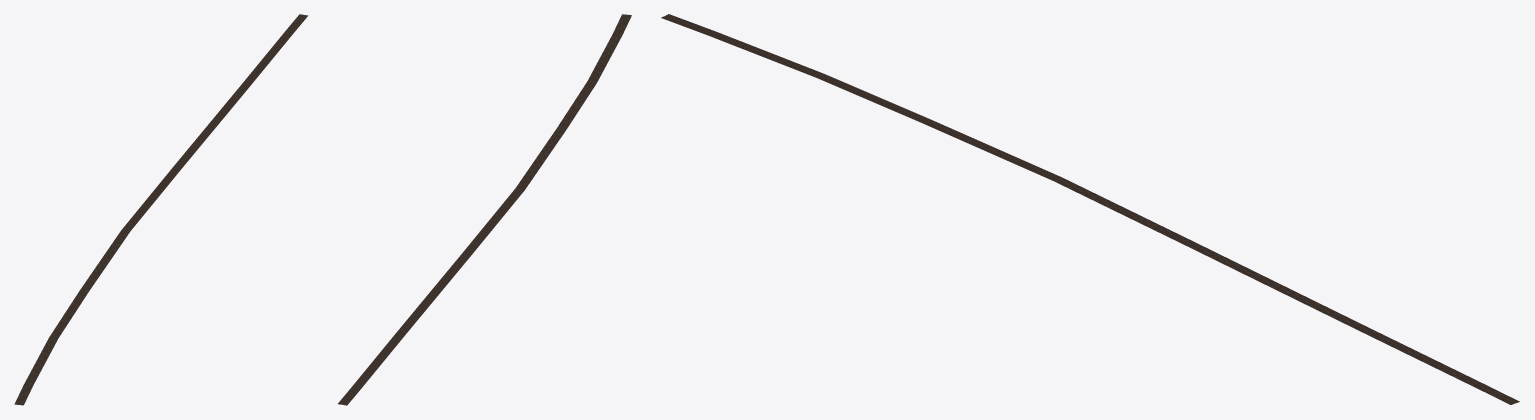
File: kobe_0042.glb
3 views of the same model, side by side, from view 1: azimuth 30°, elevation 25°; view 2: azimuth 210°, elevation 25°; view 3: azimuth 270°, elevation 25° (orthographic). The views are drawn at different scales.
Visible parts, largest first — view 1: ballast_top, oxidised_rail_profiles; view 2: ballast_top, oxidised_rail_profiles, ballast_left; view 3: ballast_top, oxidised_rail_profiles.
Part boxes in pixels (x1=…): ballast_top: x1=14, y1=14, x2=307, y2=405; oxidised_rail_profiles: x1=16, y1=14, x2=306, y2=403; ballast_top: x1=338, y1=14, x2=631, y2=405; oxidised_rail_profiles: x1=339, y1=15, x2=627, y2=404; ballast_left: x1=346, y1=15, x2=631, y2=405; ballast_top: x1=661, y1=14, x2=1519, y2=404; oxidised_rail_profiles: x1=662, y1=14, x2=1518, y2=404.
Bounding box in the file's own units: 559 × 0.819 × 519.
4 materials, 3 textured.
